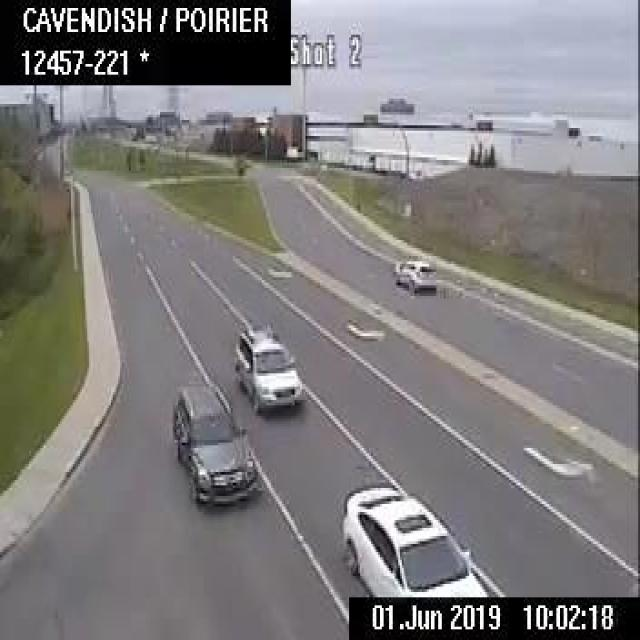vehicle: (340, 482, 489, 594), (171, 381, 260, 504), (229, 325, 304, 416), (391, 256, 436, 291)
